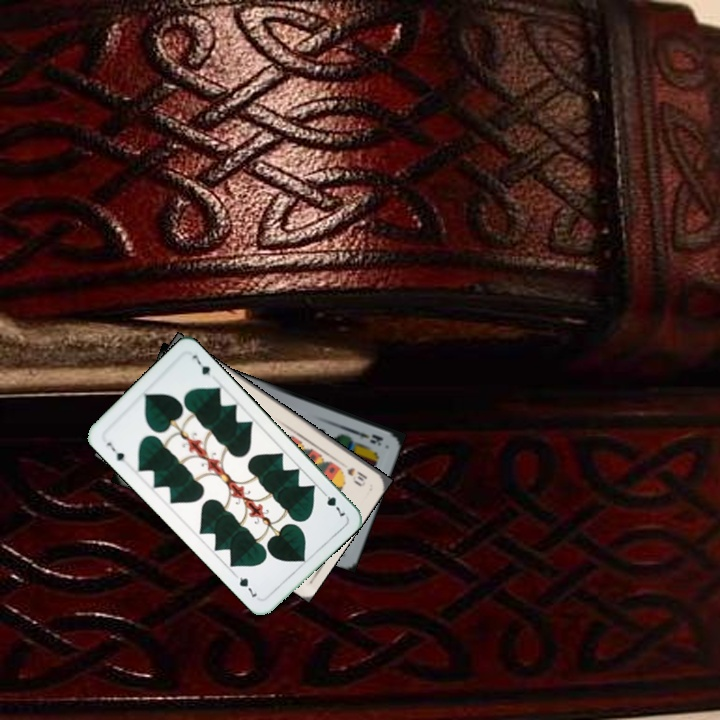EK: (347, 425, 386, 448)
G7: (317, 486, 350, 519), (103, 438, 127, 464)
S10: (343, 464, 370, 484)
